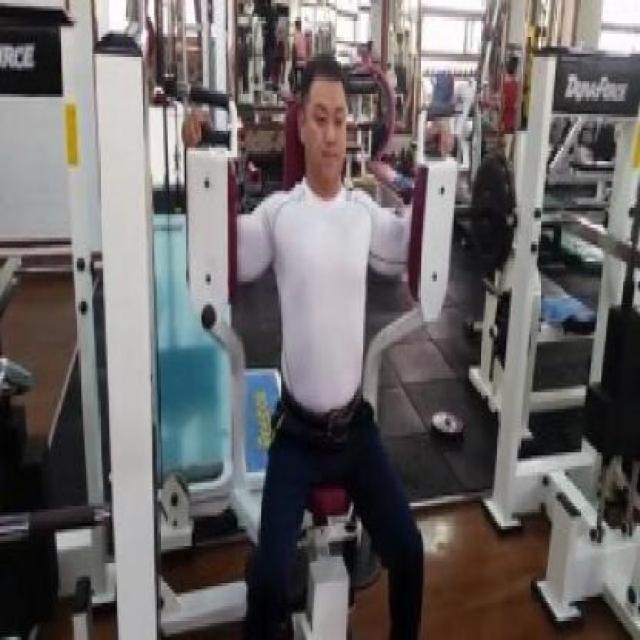chest fly machine: (162, 38, 482, 640)
